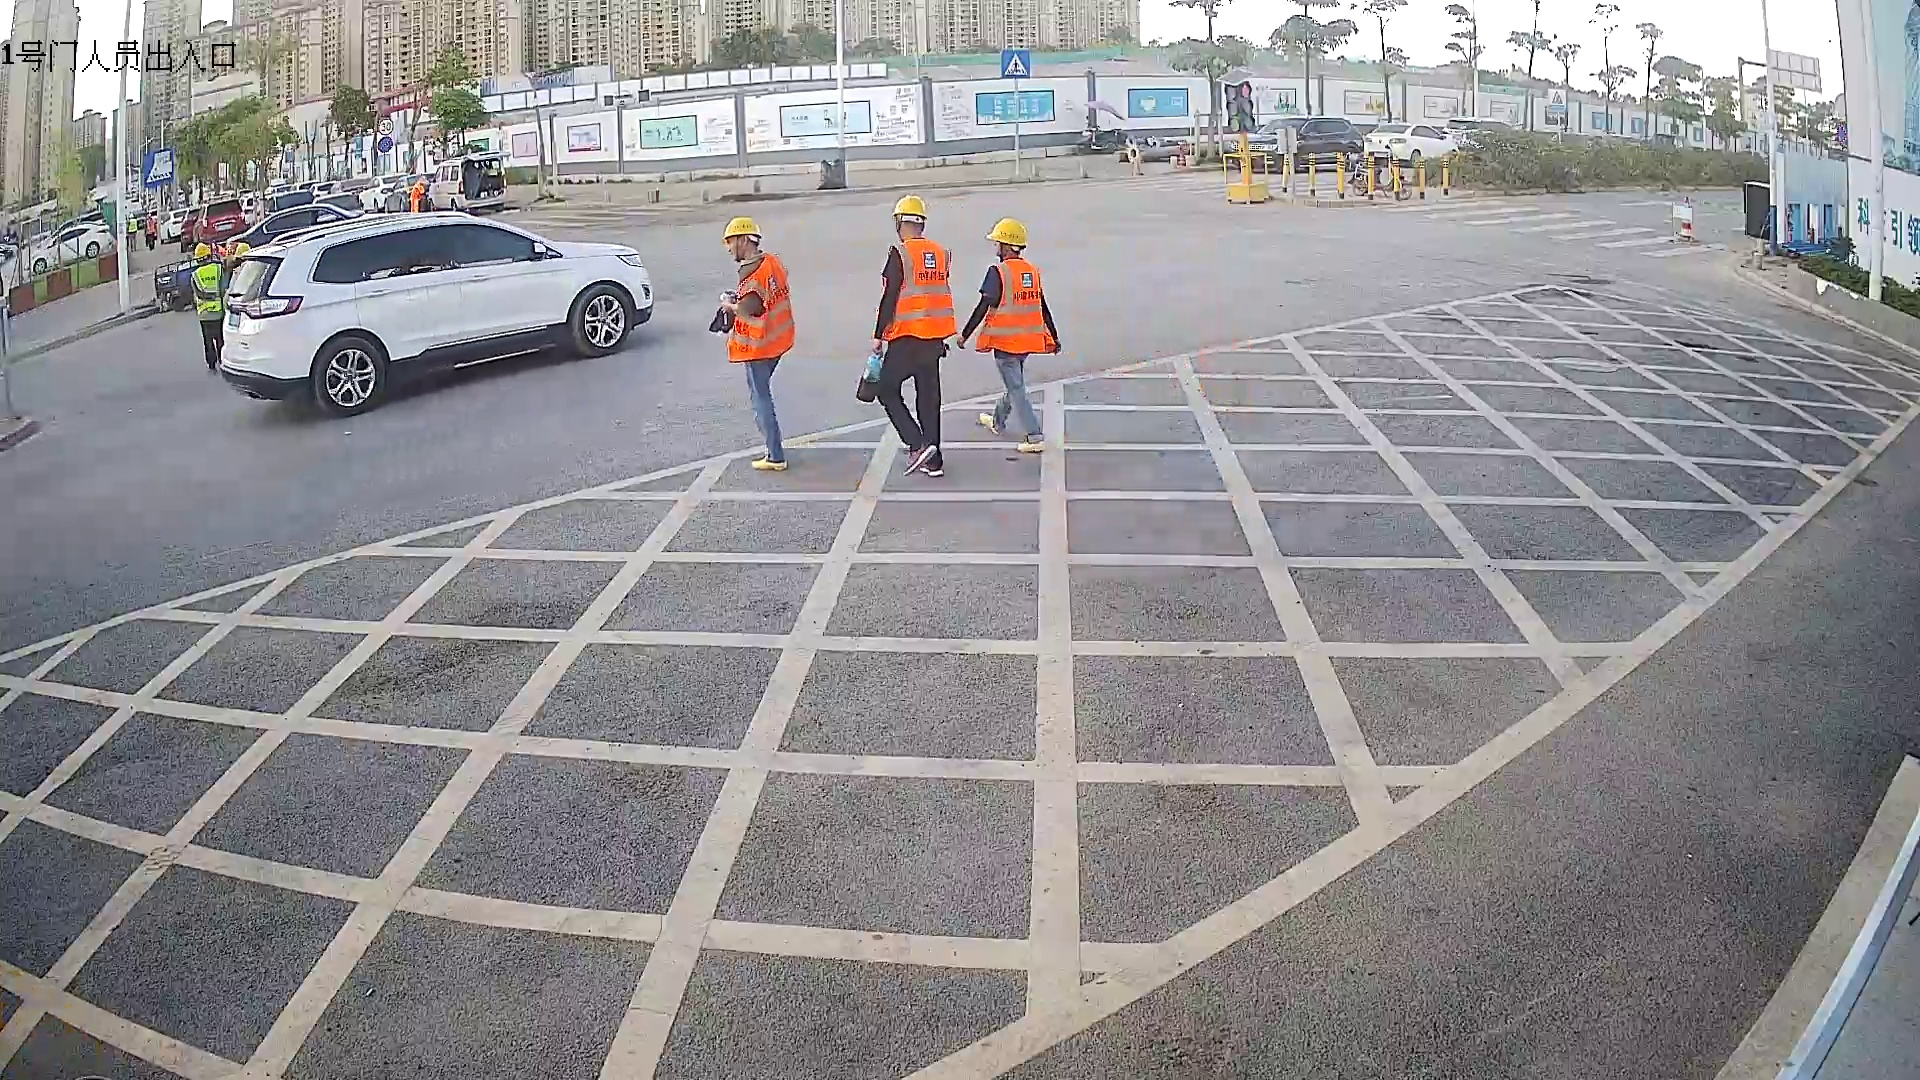person: (957, 212, 1064, 454), (871, 189, 959, 477), (719, 208, 798, 472), (188, 242, 224, 372)
reflective_vest: (878, 235, 960, 340), (972, 257, 1056, 357), (721, 252, 797, 363), (190, 262, 223, 314)
safety_helmet: (982, 214, 1029, 263), (720, 211, 764, 260), (889, 192, 928, 242), (192, 242, 213, 266)
